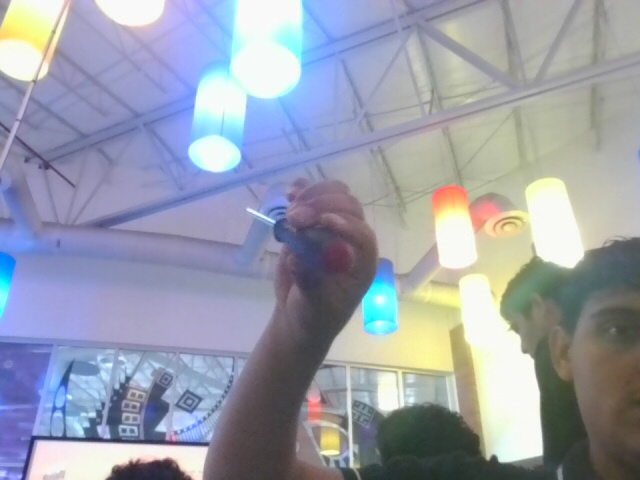destornillador: (245, 206, 344, 277)
